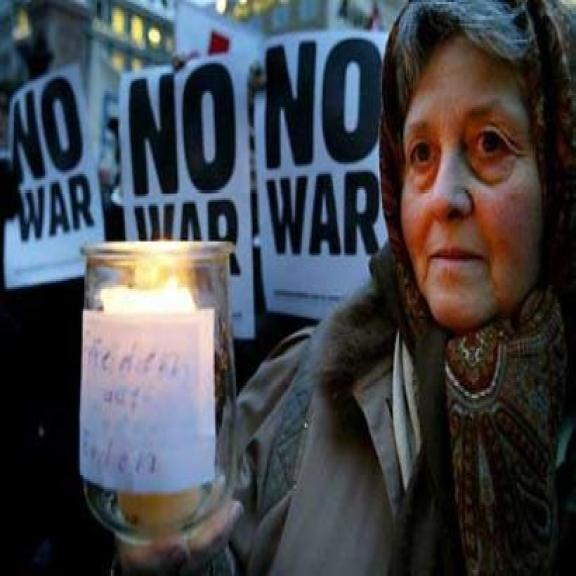face: (396, 22, 554, 330)
